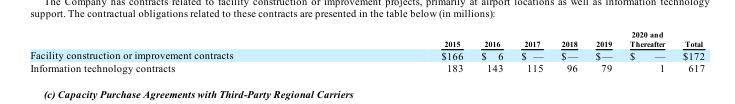table: (29, 29, 703, 72)
table column: (29, 29, 336, 72), (336, 29, 471, 72), (620, 29, 673, 72), (471, 29, 511, 72), (511, 29, 551, 72), (585, 29, 620, 72), (551, 29, 585, 72), (673, 29, 703, 72)
table column header: (29, 29, 703, 48)
table row: (29, 29, 703, 48), (29, 48, 703, 61), (29, 61, 703, 72)
